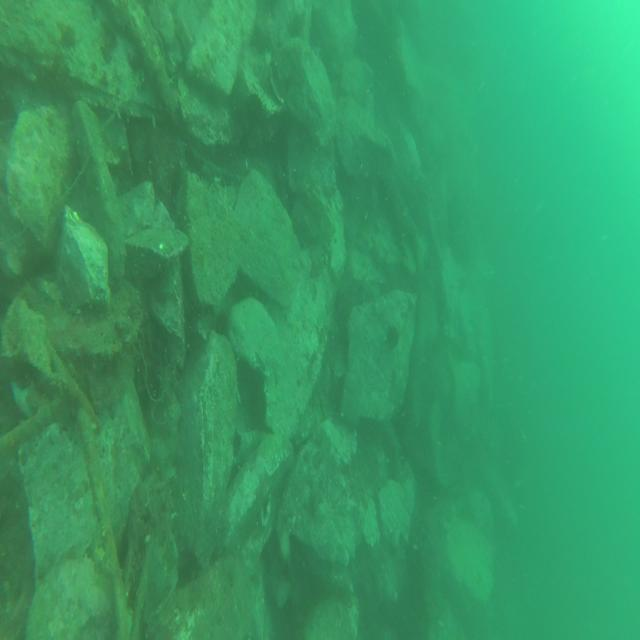echinus: (386, 323, 403, 351)
